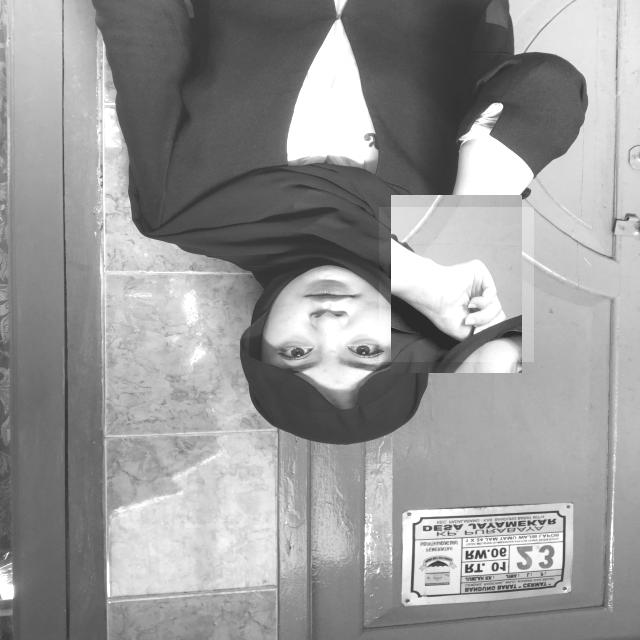ibu: (379, 207, 534, 362)
